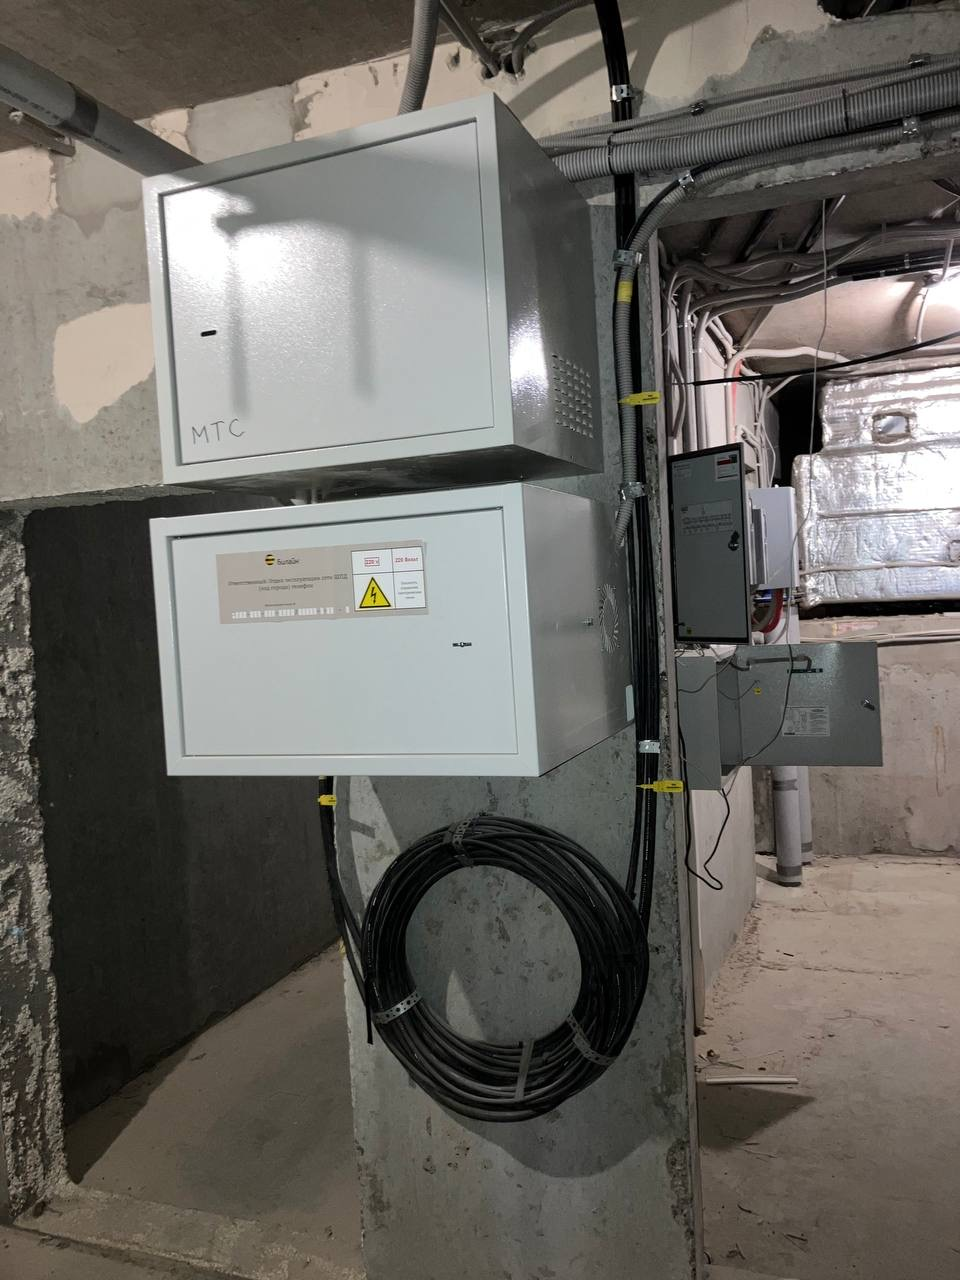shta-7m: (144, 478, 619, 791)
